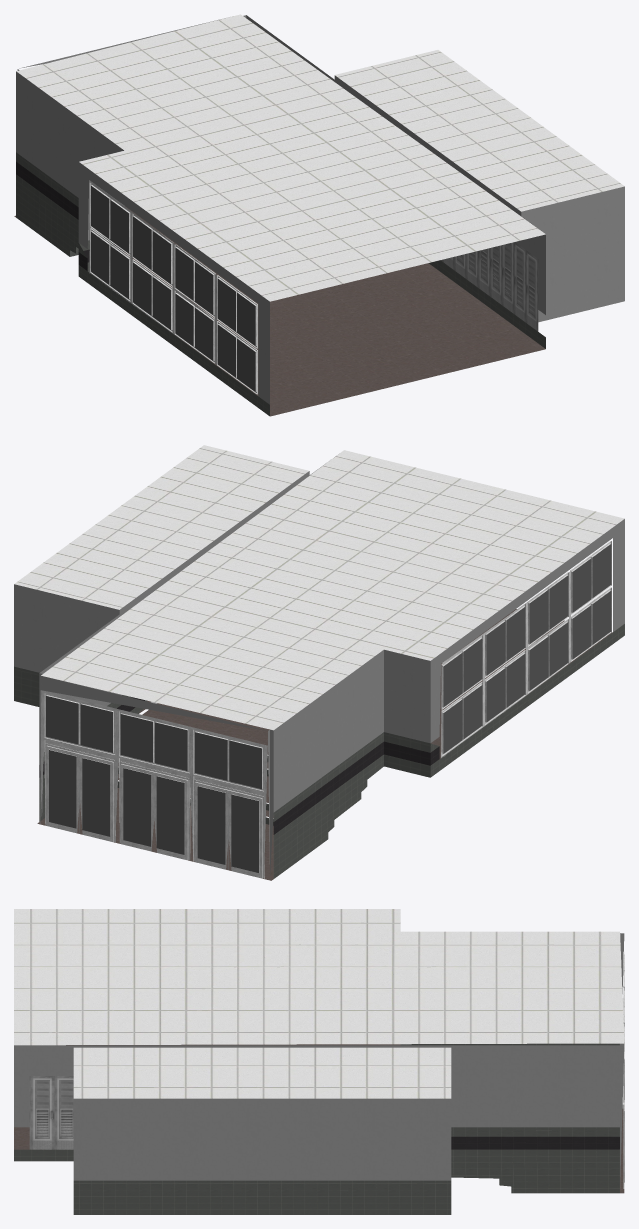
Rendered from lobby-final.glb.
The picture shows the model from 3 angles, top to bottom: view 1: azimuth 30°, elevation 25°; view 2: azimuth 150°, elevation 25°; view 3: azimuth 270°, elevation 25°; orthographic projection.
Bounding box in the file's own units: 421 × 153 × 572.
Materials: 16 (13 with a texture image).
